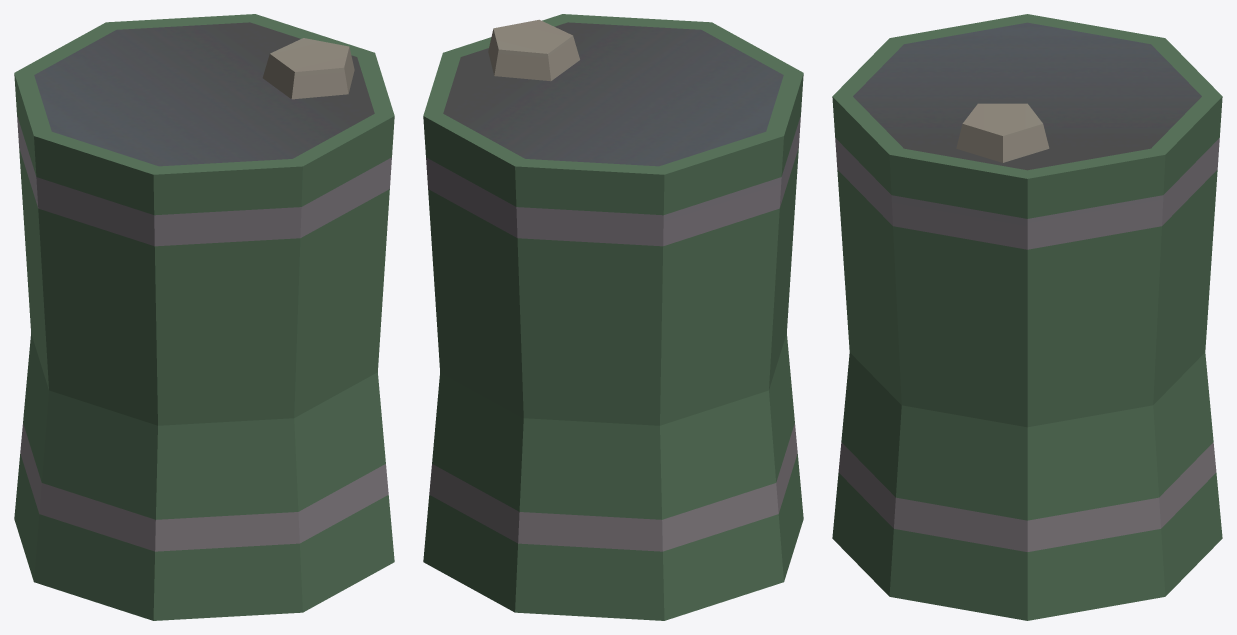
The model's file is SM_Barrel_2E.FBX.
The picture shows the model from 3 angles, left to right: view 1: azimuth 30°, elevation 25°; view 2: azimuth 150°, elevation 25°; view 3: azimuth 270°, elevation 25°; orthographic projection.
Visible parts, largest first — view 1: SM_Barrel_2E; view 2: SM_Barrel_2E; view 3: SM_Barrel_2E.
Boxes of the visible parts, <box> form: SM_Barrel_2E: <box>14,14,394,620</box>; SM_Barrel_2E: <box>423,14,803,620</box>; SM_Barrel_2E: <box>832,14,1222,620</box>.
Size of what is drawn, in the model's own units: 82.8 by 82.8 by 109.
